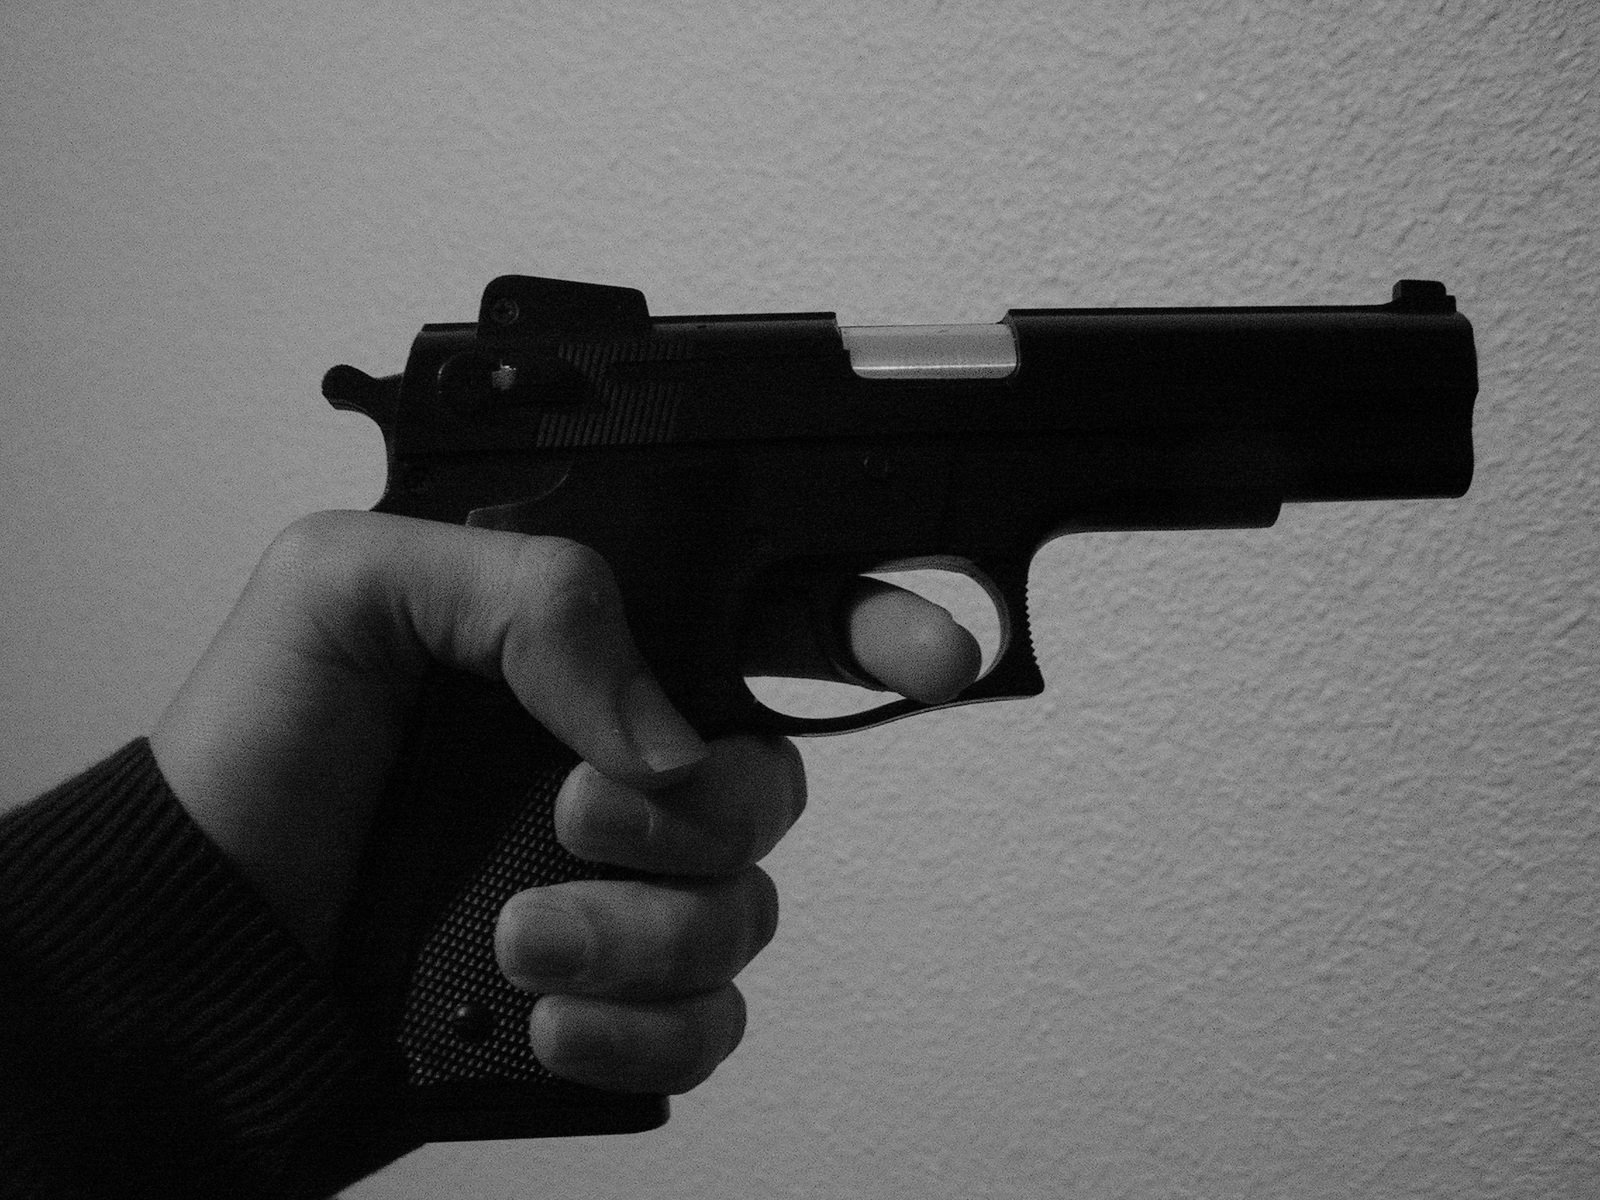gun: (312, 266, 1485, 1137)
